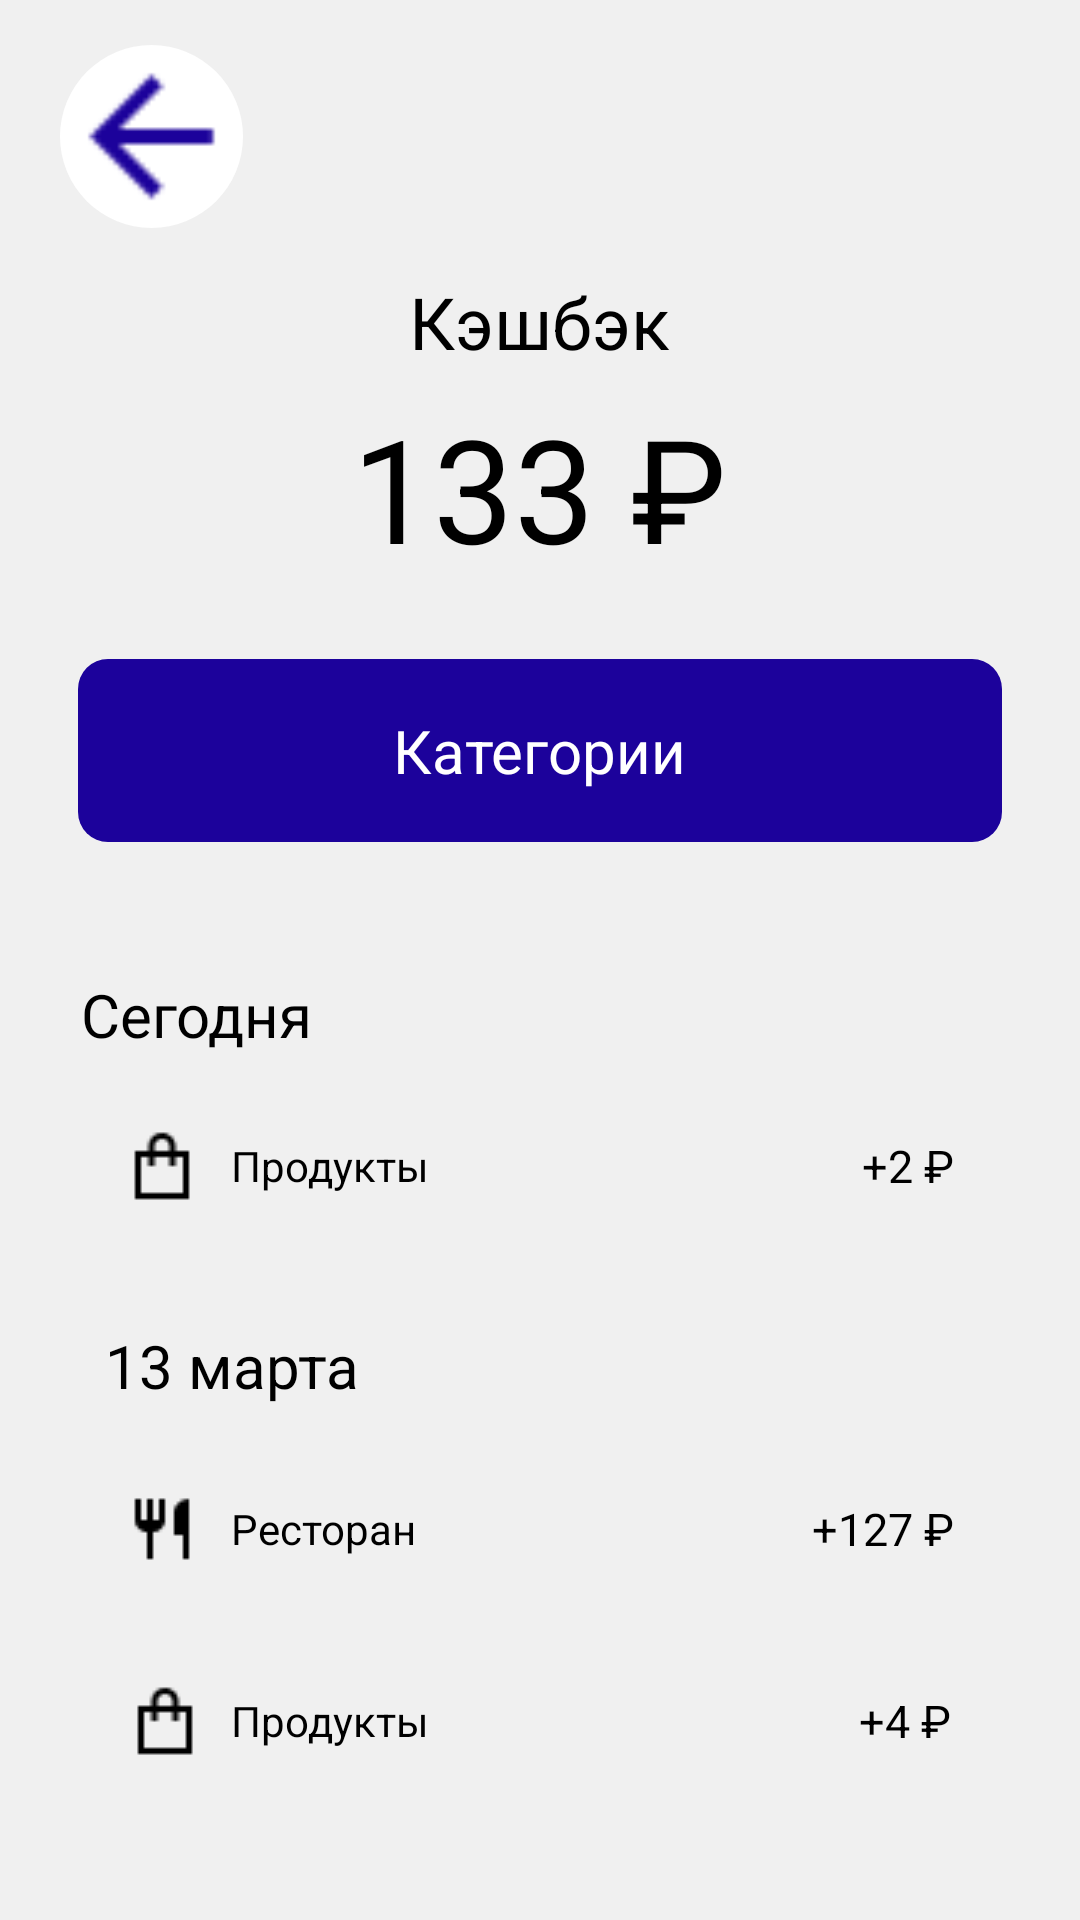

Point at icon controls on the screen. Image size 1080 x 1920, points as (x,y).
back: (151,136)
restaurant: (162,1529)
tdesign shop: (162,1166), (165,1721)
